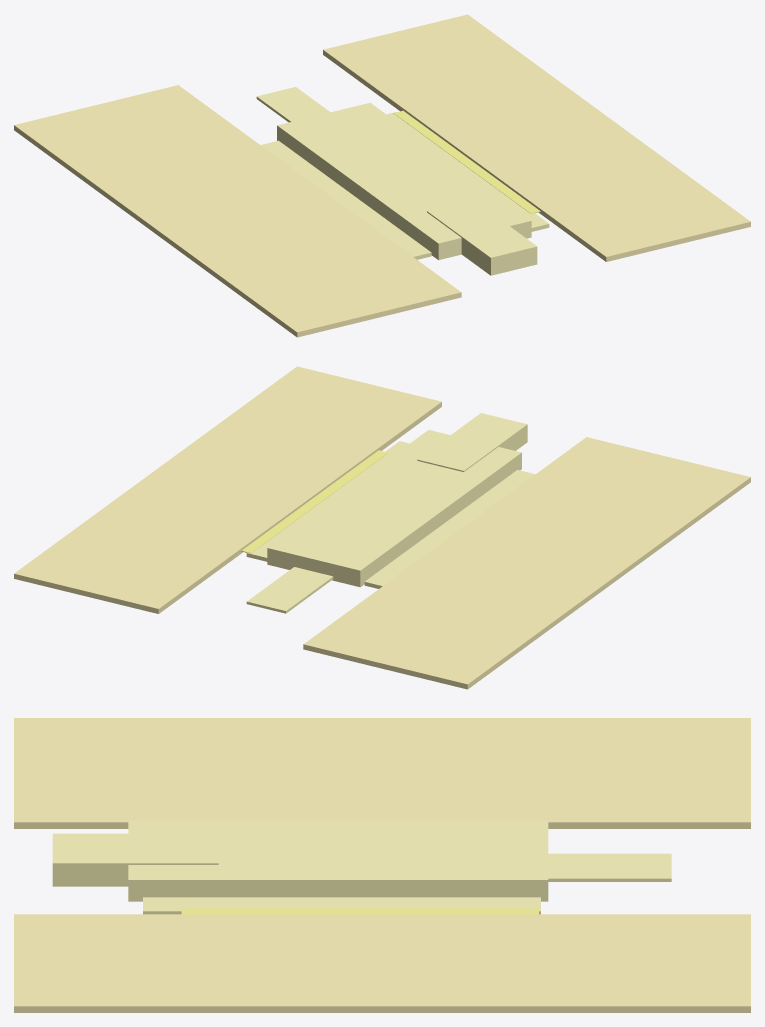
The model's file is road_transit_platform_median_island.glb.
3 views of the same model, one above another, from view 1: azimuth 30°, elevation 25°; view 2: azimuth 150°, elevation 25°; view 3: azimuth 270°, elevation 25° (orthographic). The views are drawn at different scales.
Visible parts, largest first — view 1: lane_left, lane_right, median_platform, platform_nose, apron_left, shelter_pad, tactile_right, apron_right; view 2: lane_left, lane_right, median_platform, platform_nose, apron_left, shelter_pad, tactile_right, apron_right; view 3: lane_left, lane_right, median_platform, platform_nose, apron_right, shelter_pad, tactile_right.
Part boxes in pixels (left/top/right/bottom): lane_left: left=14, top=85, right=461, bottom=337; lane_right: left=323, top=14, right=750, bottom=261; median_platform: left=277, top=102, right=531, bottom=260; platform_nose: left=427, top=200, right=537, bottom=275; apron_left: left=260, top=140, right=431, bottom=259; shelter_pad: left=256, top=87, right=329, bottom=122; tactile_right: left=393, top=110, right=540, bottom=213; apron_right: left=386, top=112, right=549, bottom=231; lane_left: left=303, top=437, right=750, bottom=689; lane_right: left=14, top=366, right=441, bottom=613; median_platform: left=267, top=430, right=521, bottom=587; platform_nose: left=417, top=413, right=527, bottom=471; apron_left: left=364, top=470, right=535, bottom=588; shelter_pad: left=246, top=567, right=333, bottom=613; tactile_right: left=241, top=450, right=388, bottom=553; apron_right: left=246, top=441, right=409, bottom=561; lane_left: left=14, top=718, right=750, bottom=828; lane_right: left=14, top=914, right=750, bottom=1012; median_platform: left=128, top=820, right=548, bottom=901; platform_nose: left=52, top=833, right=218, bottom=886; apron_right: left=143, top=897, right=540, bottom=914; shelter_pad: left=548, top=853, right=671, bottom=881; tactile_right: left=181, top=908, right=538, bottom=914.
Bounding box in the file's own units: 3.7 × 0.14 × 4.
